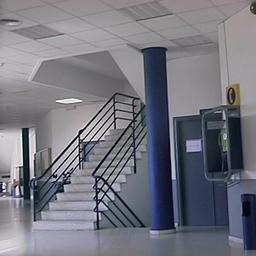Bote de Basura: (234, 191, 255, 249)
Escaleras: (33, 100, 145, 231)
Otro Obstaculo: (198, 105, 243, 183)
Puerta: (176, 120, 223, 229)
